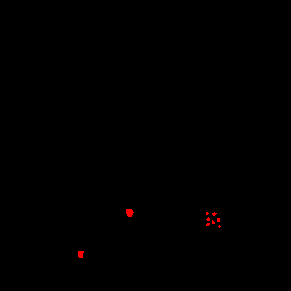Target: (126, 209, 134, 217), (78, 251, 84, 258), (212, 212, 217, 216), (206, 217, 210, 221), (217, 218, 220, 222), (212, 220, 215, 224), (206, 223, 210, 226), (206, 212, 209, 215), (218, 225, 221, 228)
